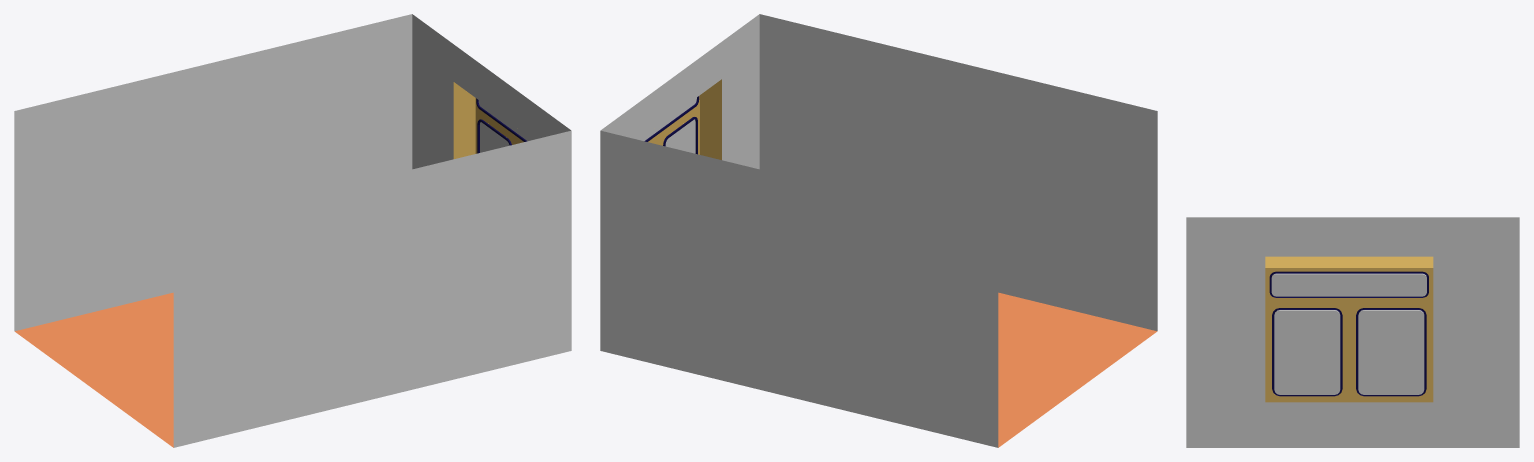
The model's file is withDiary-transformed.glb.
3 renders of one model, left to right at view 1: azimuth 30°, elevation 25°; view 2: azimuth 150°, elevation 25°; view 3: azimuth 270°, elevation 25°, orthographic. The views are drawn at different scales.
Parts seen in each view (by area): view 1: Room, RoomFloor, Window, GlassPane; view 2: Room, RoomFloor, Window, GlassPane; view 3: Room, GlassPane, Window.
Part boxes in pixels (left/top/right/bottom): Room: left=14, top=14, right=571, bottom=447; RoomFloor: left=15, top=292, right=173, bottom=447; Window: left=453, top=82, right=527, bottom=158; GlassPane: left=478, top=100, right=532, bottom=152; Room: left=600, top=14, right=1157, bottom=447; RoomFloor: left=998, top=292, right=1156, bottom=447; Window: left=644, top=79, right=721, bottom=159; GlassPane: left=641, top=97, right=696, bottom=153; Room: left=1186, top=217, right=1519, bottom=447; GlassPane: left=1271, top=273, right=1426, bottom=394; Window: left=1265, top=256, right=1433, bottom=402.
Bounding box in the file's own units: 474 × 237 × 310.
